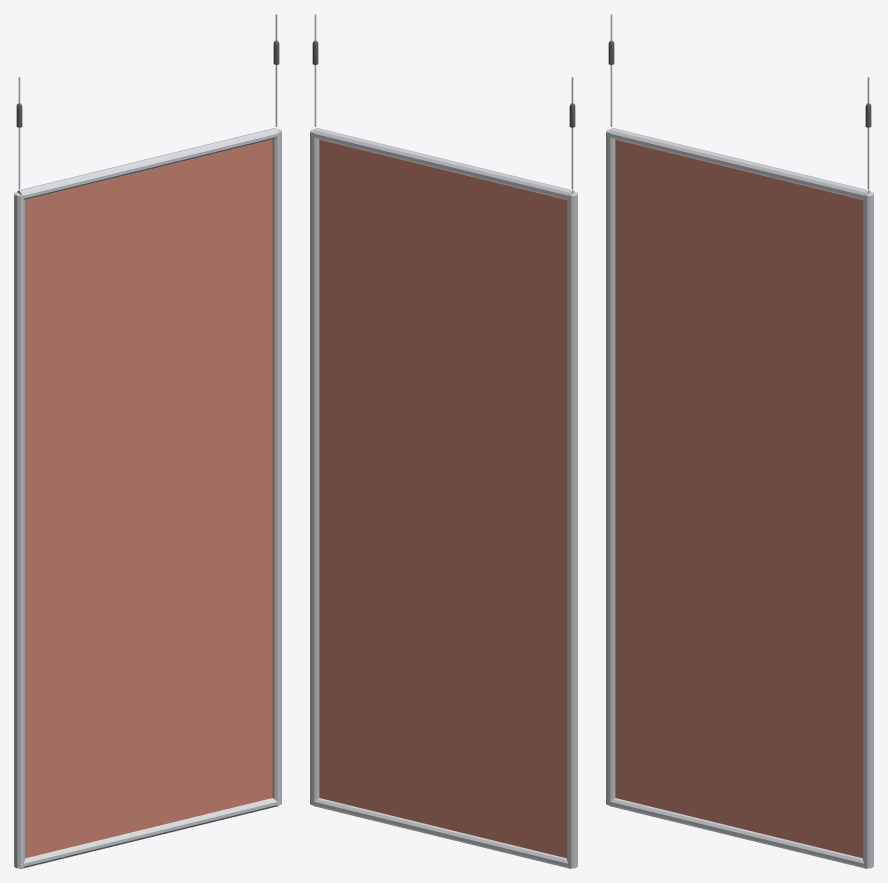
The picture shows the model from 3 angles, left to right: view 1: azimuth 30°, elevation 25°; view 2: azimuth 150°, elevation 25°; view 3: azimuth 330°, elevation 25°; orthographic projection.
Visible parts, largest first — view 1: mall-flag-banner-frame; view 2: mall-flag-banner-frame; view 3: mall-flag-banner-frame.
Boxes of the visible parts, box(x1,y1,x2,y2) form: mall-flag-banner-frame: box(14, 14, 281, 868); mall-flag-banner-frame: box(310, 14, 577, 868); mall-flag-banner-frame: box(606, 14, 873, 868).
Size of the model in its own units: 1.24 by 3.53 by 0.0418.
